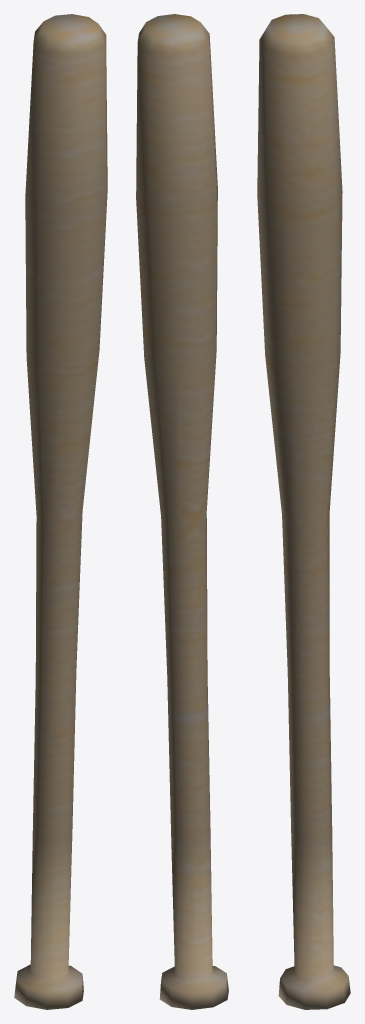
The model's file is Mesh_Batte.DAE.
3 renders of one model, left to right at view 1: azimuth 30°, elevation 25°; view 2: azimuth 210°, elevation 25°; view 3: azimuth 270°, elevation 25°, orthographic.
Visible parts, largest first — view 1: Cylindre01; view 2: Cylindre01; view 3: Cylindre01.
Part boxes in pixels (x1,y1,x2,y2): Cylindre01: (14,14,107,1009); Cylindre01: (136,14,228,1009); Cylindre01: (257,14,350,1009).
Bounding box in the file's own units: 0.8756 × 0.9352 × 10.77.
